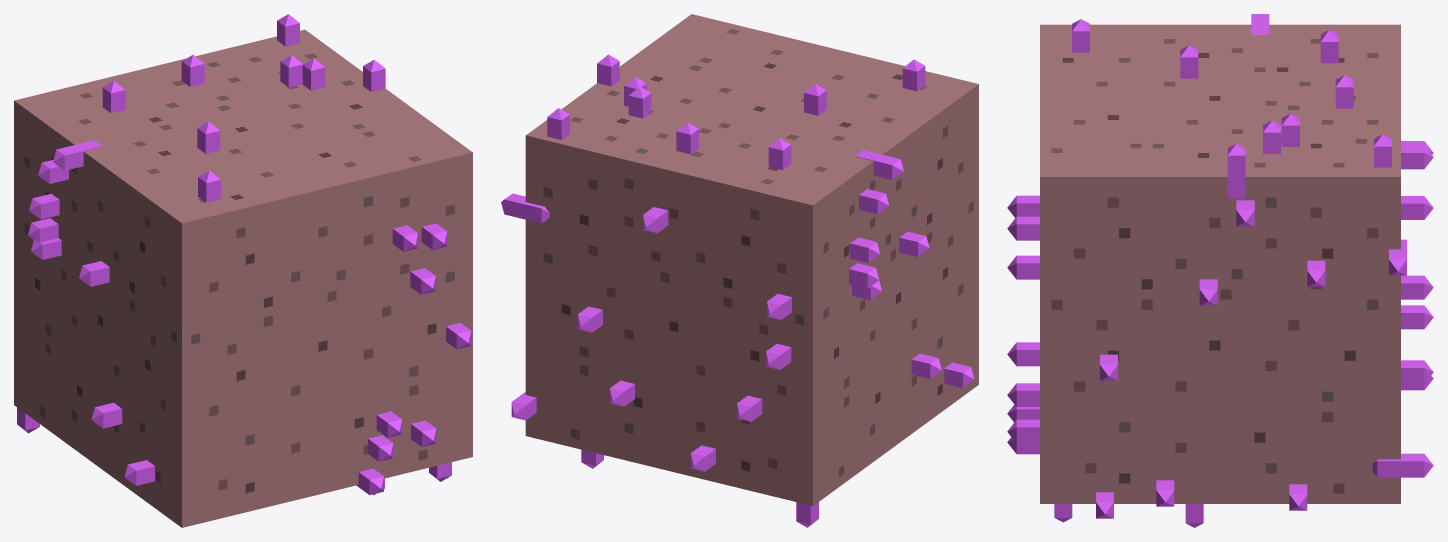
The model's file is ore3_2.fbx.
3 renders of one model, left to right at view 1: azimuth 30°, elevation 25°; view 2: azimuth 150°, elevation 25°; view 3: azimuth 270°, elevation 25°, orthographic. The views are drawn at different scales.
Parts seen in each view (by area): view 1: Stone 1.003; view 2: Stone 1.003; view 3: Stone 1.003.
Part boxes in pixels (x1=…): Stone 1.003: x1=14, y1=14, x2=472, y2=527; Stone 1.003: x1=501, y1=14, x2=978, y2=527; Stone 1.003: x1=1007, y1=14, x2=1433, y2=527.
Size of the model in its own units: 236 by 236 by 236.
